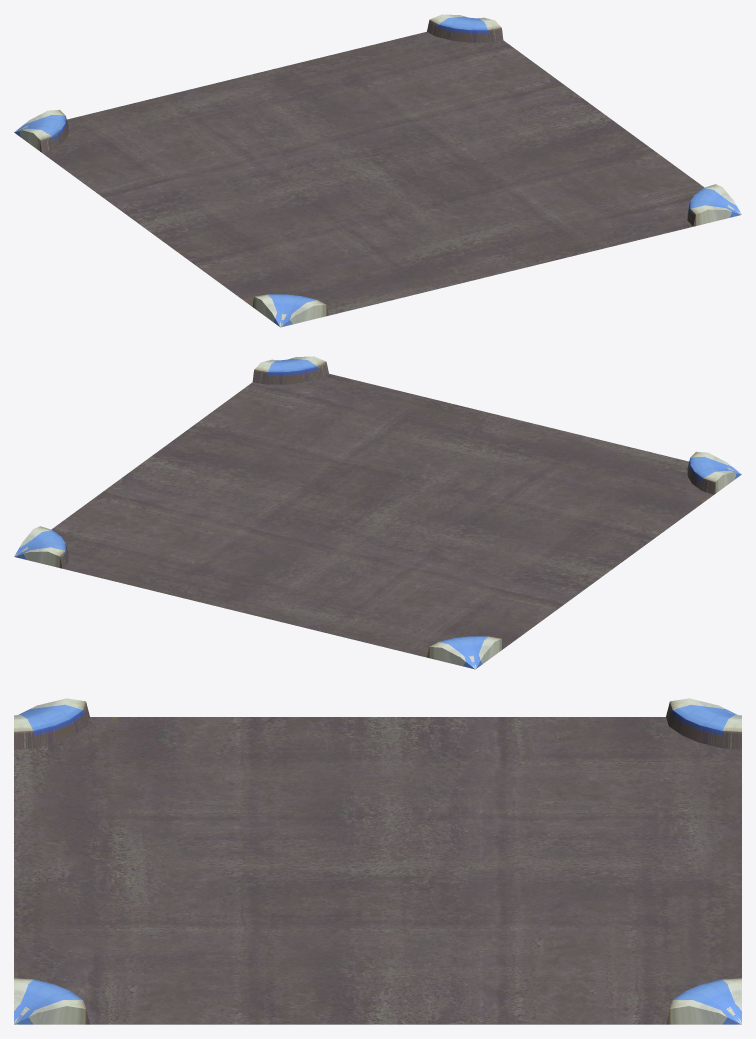
The model's file is RoadCross.FBX.
3 renders of one model, top to bottom at view 1: azimuth 30°, elevation 25°; view 2: azimuth 150°, elevation 25°; view 3: azimuth 270°, elevation 25°, orthographic. The views are drawn at different scales.
Parts seen in each view (by area): view 1: RoadCross; view 2: RoadCross; view 3: RoadCross.
Boxes of the visible parts, x1=… form: RoadCross: x1=14, y1=14, x2=741, y2=327; RoadCross: x1=14, y1=356, x2=741, y2=669; RoadCross: x1=14, y1=698, x2=741, y2=1024.
Bounding box in the file's own units: 1000 × 28.17 × 1000.
2 materials, 2 textured.
